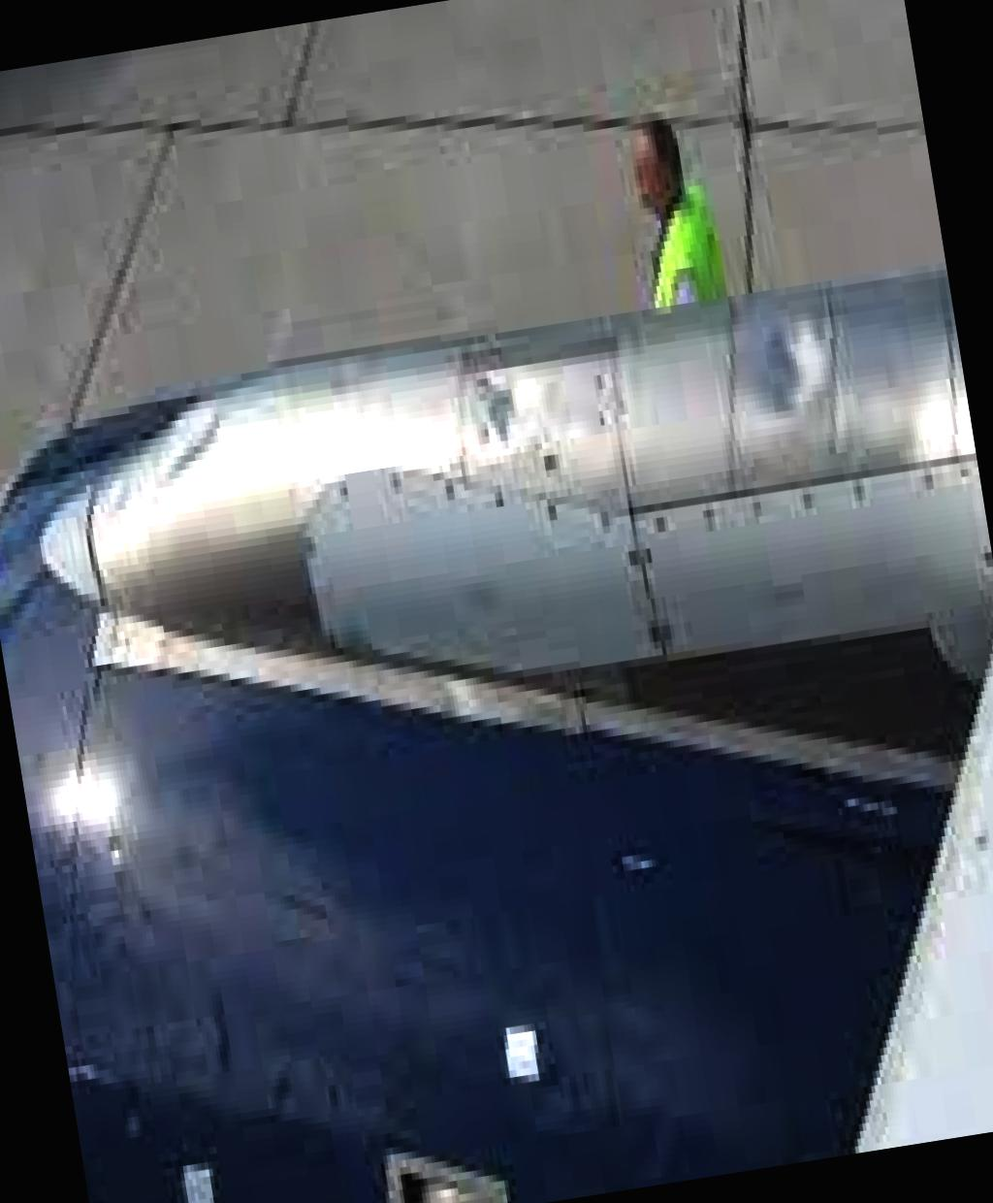dent: (743, 307, 822, 427), (457, 354, 532, 454)
